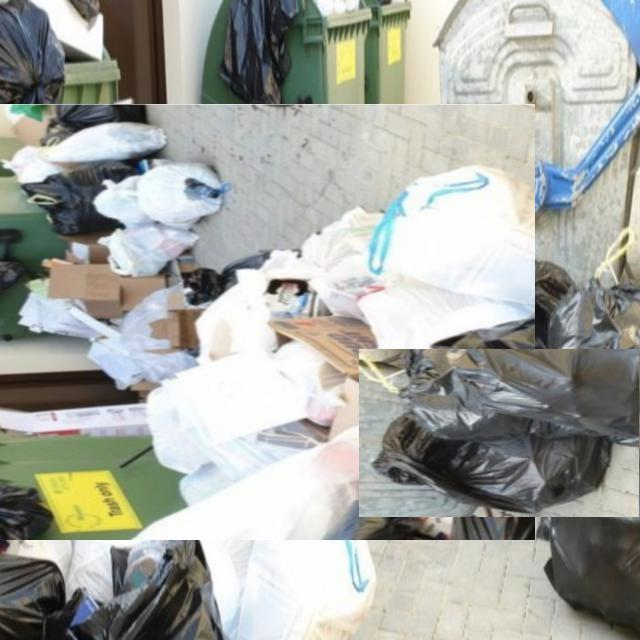Trashbag: (426, 346, 628, 443), (382, 425, 606, 511), (0, 5, 71, 111), (30, 178, 113, 235), (51, 103, 150, 128)
